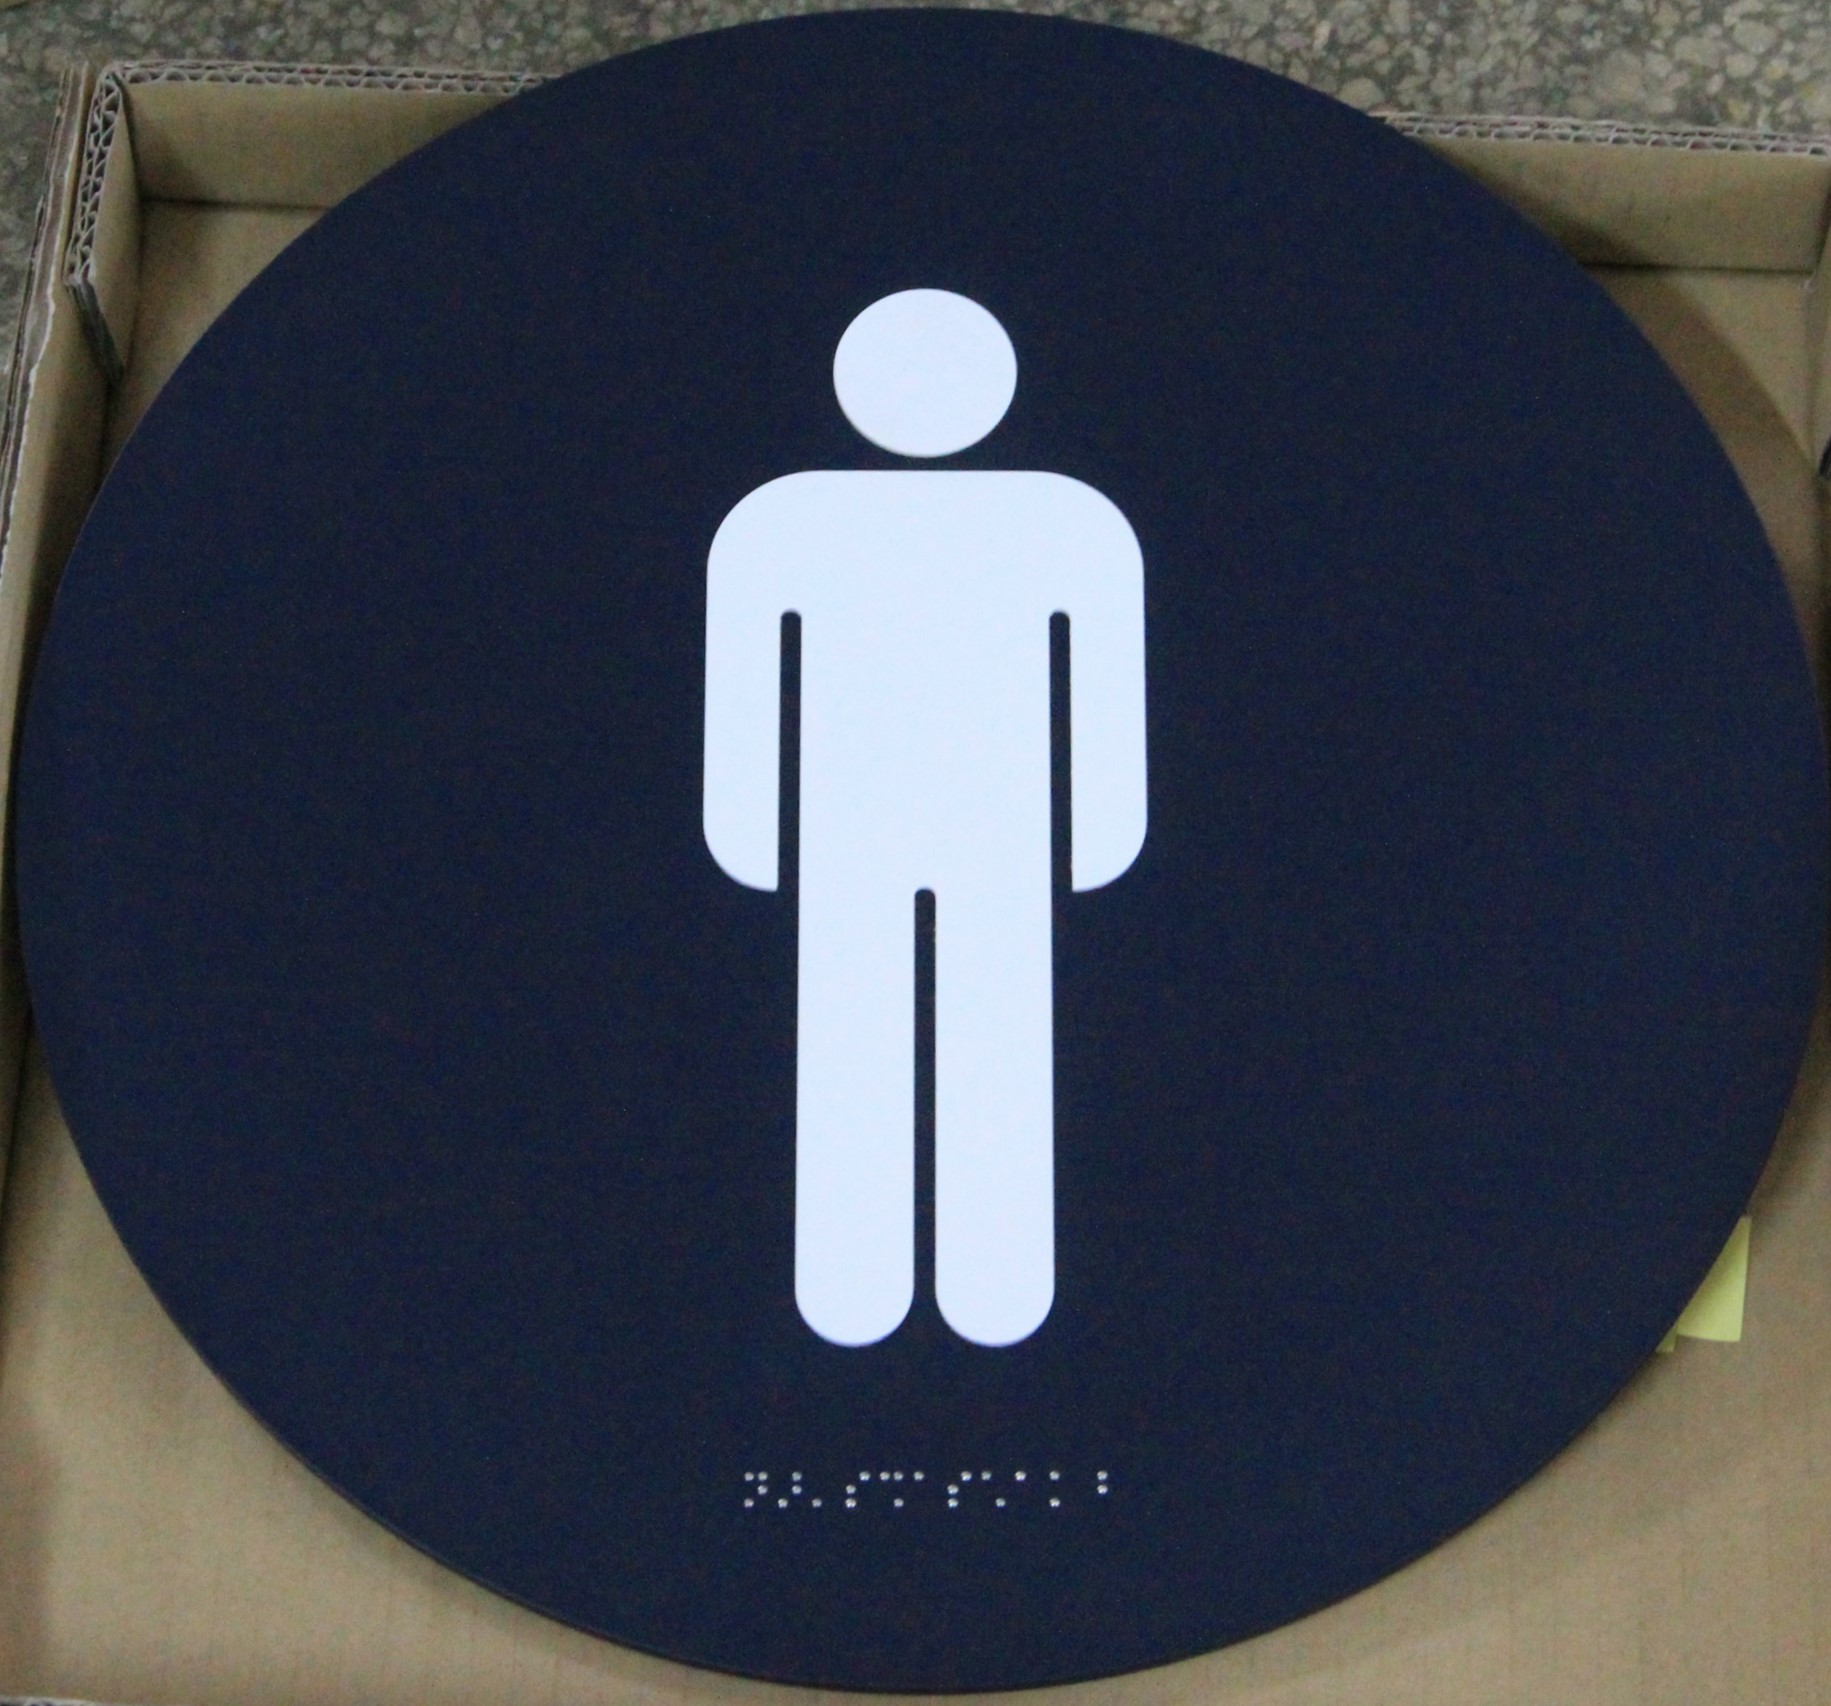Braille: (810, 1470, 837, 1510), (843, 1470, 871, 1510), (980, 1470, 1007, 1510), (1013, 1470, 1041, 1510), (1082, 1470, 1110, 1510), (744, 1470, 770, 1510), (778, 1470, 803, 1510), (879, 1470, 904, 1510), (912, 1470, 938, 1510), (948, 1470, 973, 1510), (1049, 1470, 1074, 1510)
